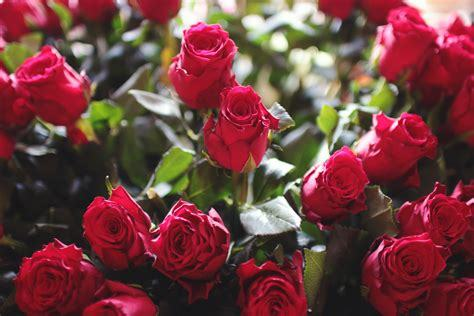Rose: (152, 199, 230, 288), (361, 235, 445, 313), (169, 22, 239, 105), (13, 245, 97, 311), (205, 87, 270, 170), (81, 189, 152, 264), (368, 108, 434, 188), (18, 50, 89, 123), (301, 148, 368, 220), (239, 257, 307, 316), (404, 193, 467, 256)
